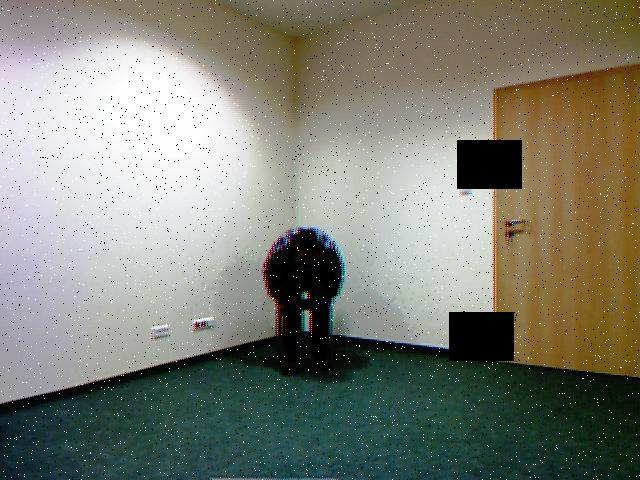bending: (244, 204, 351, 387)
